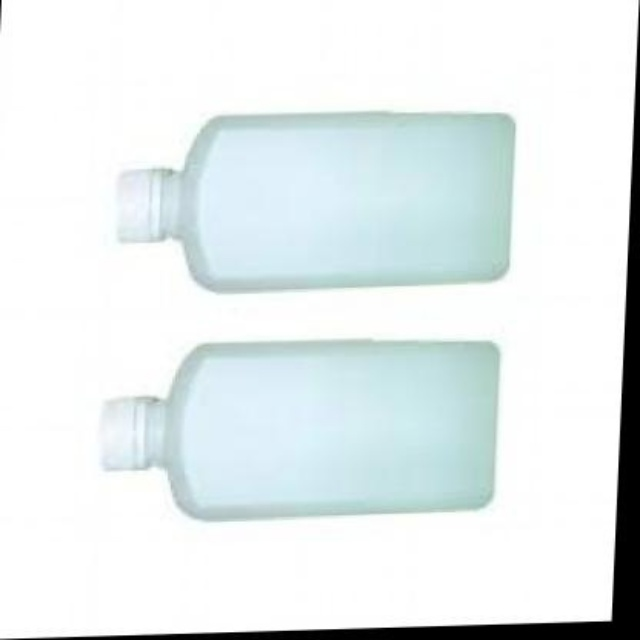trash: (118, 112, 512, 291), (102, 342, 497, 517)
